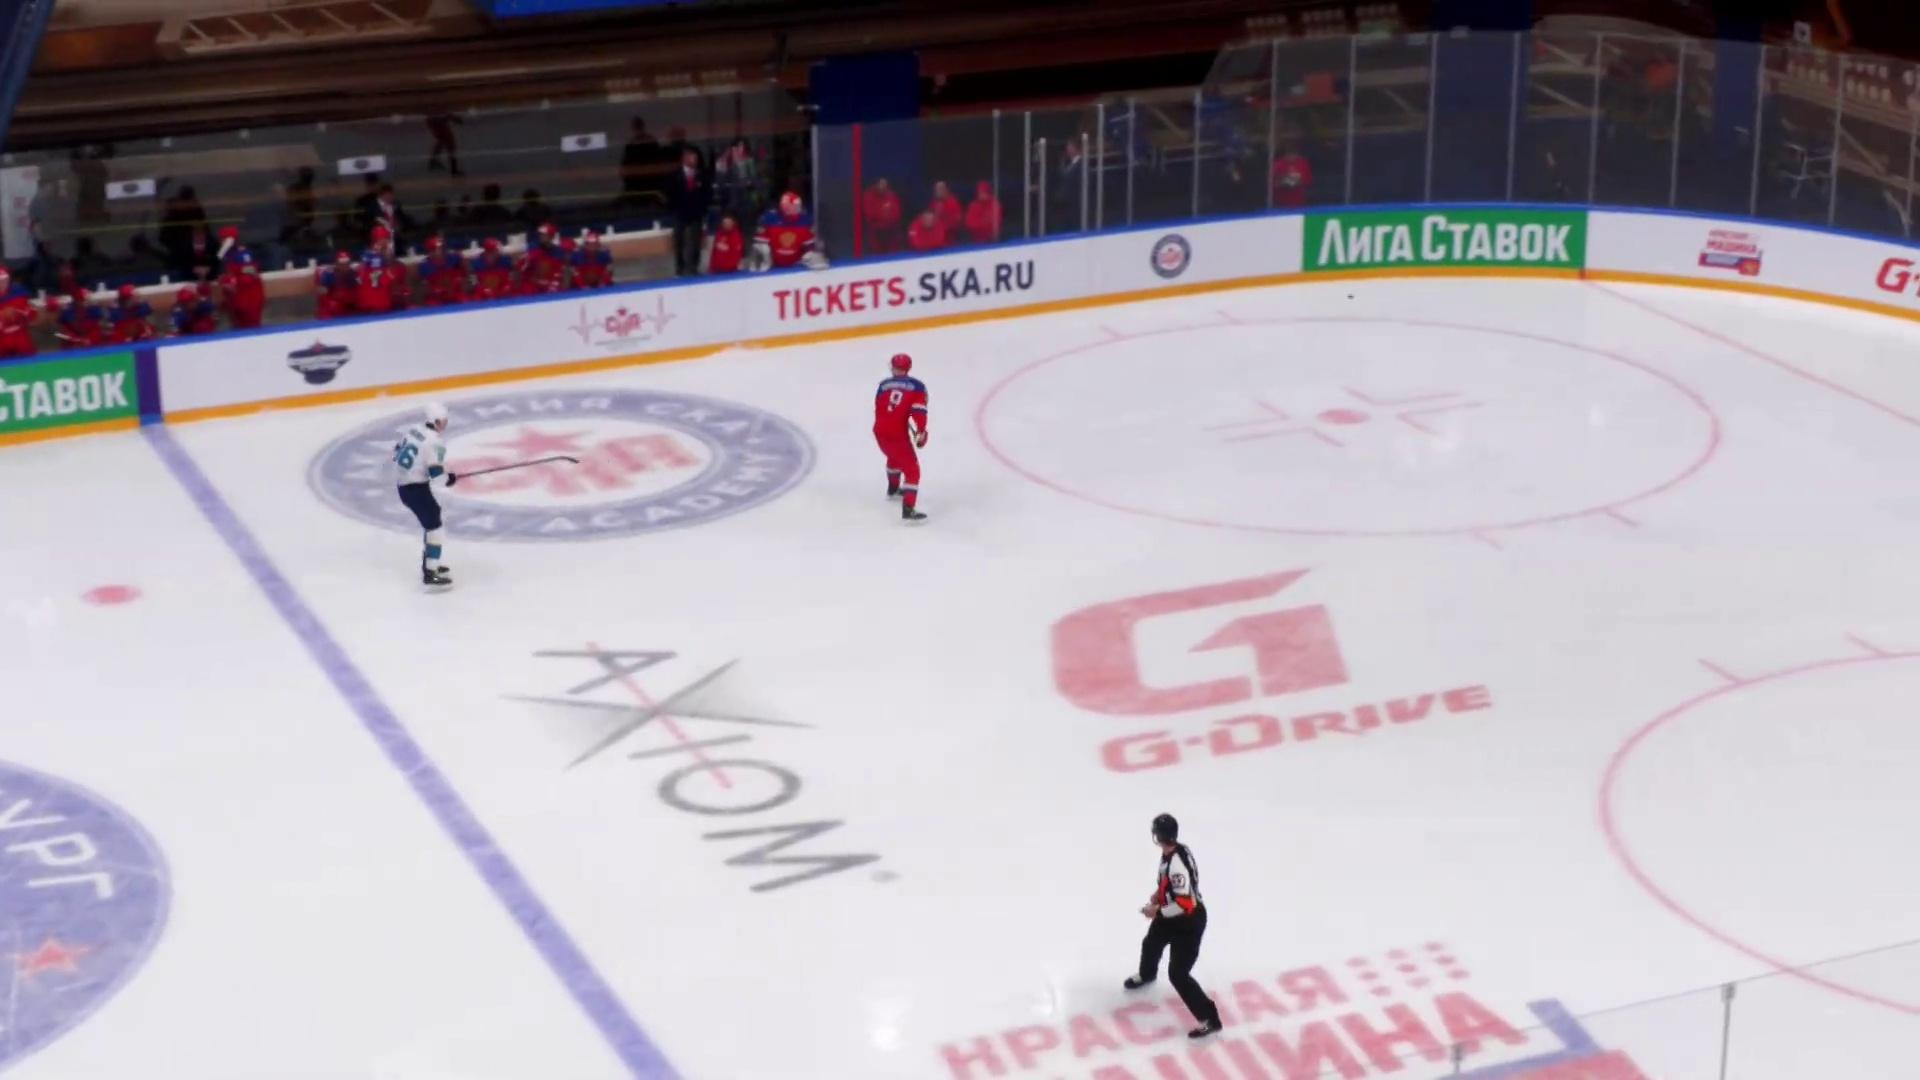ball: (1346, 294, 1356, 299)
